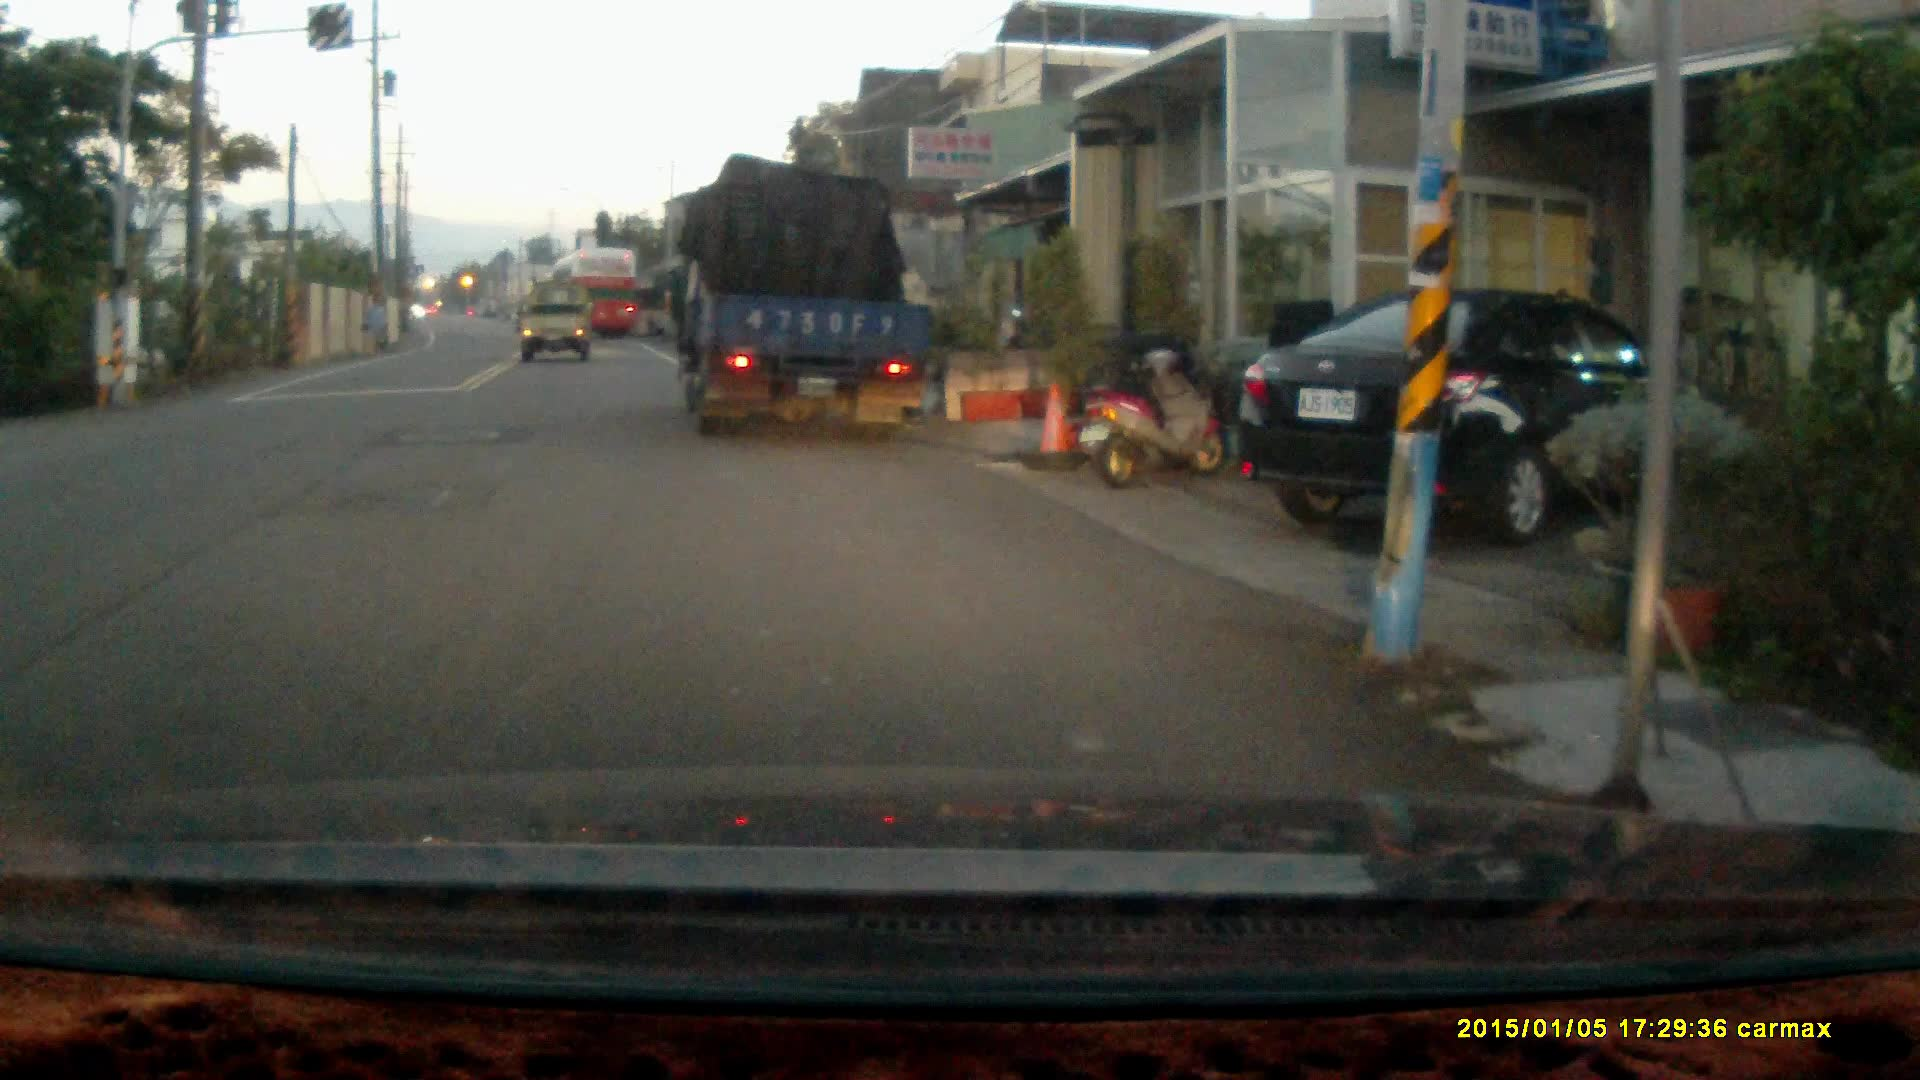vehicle: (1230, 284, 1720, 545), (669, 164, 944, 434), (549, 247, 646, 344), (520, 291, 593, 368)
